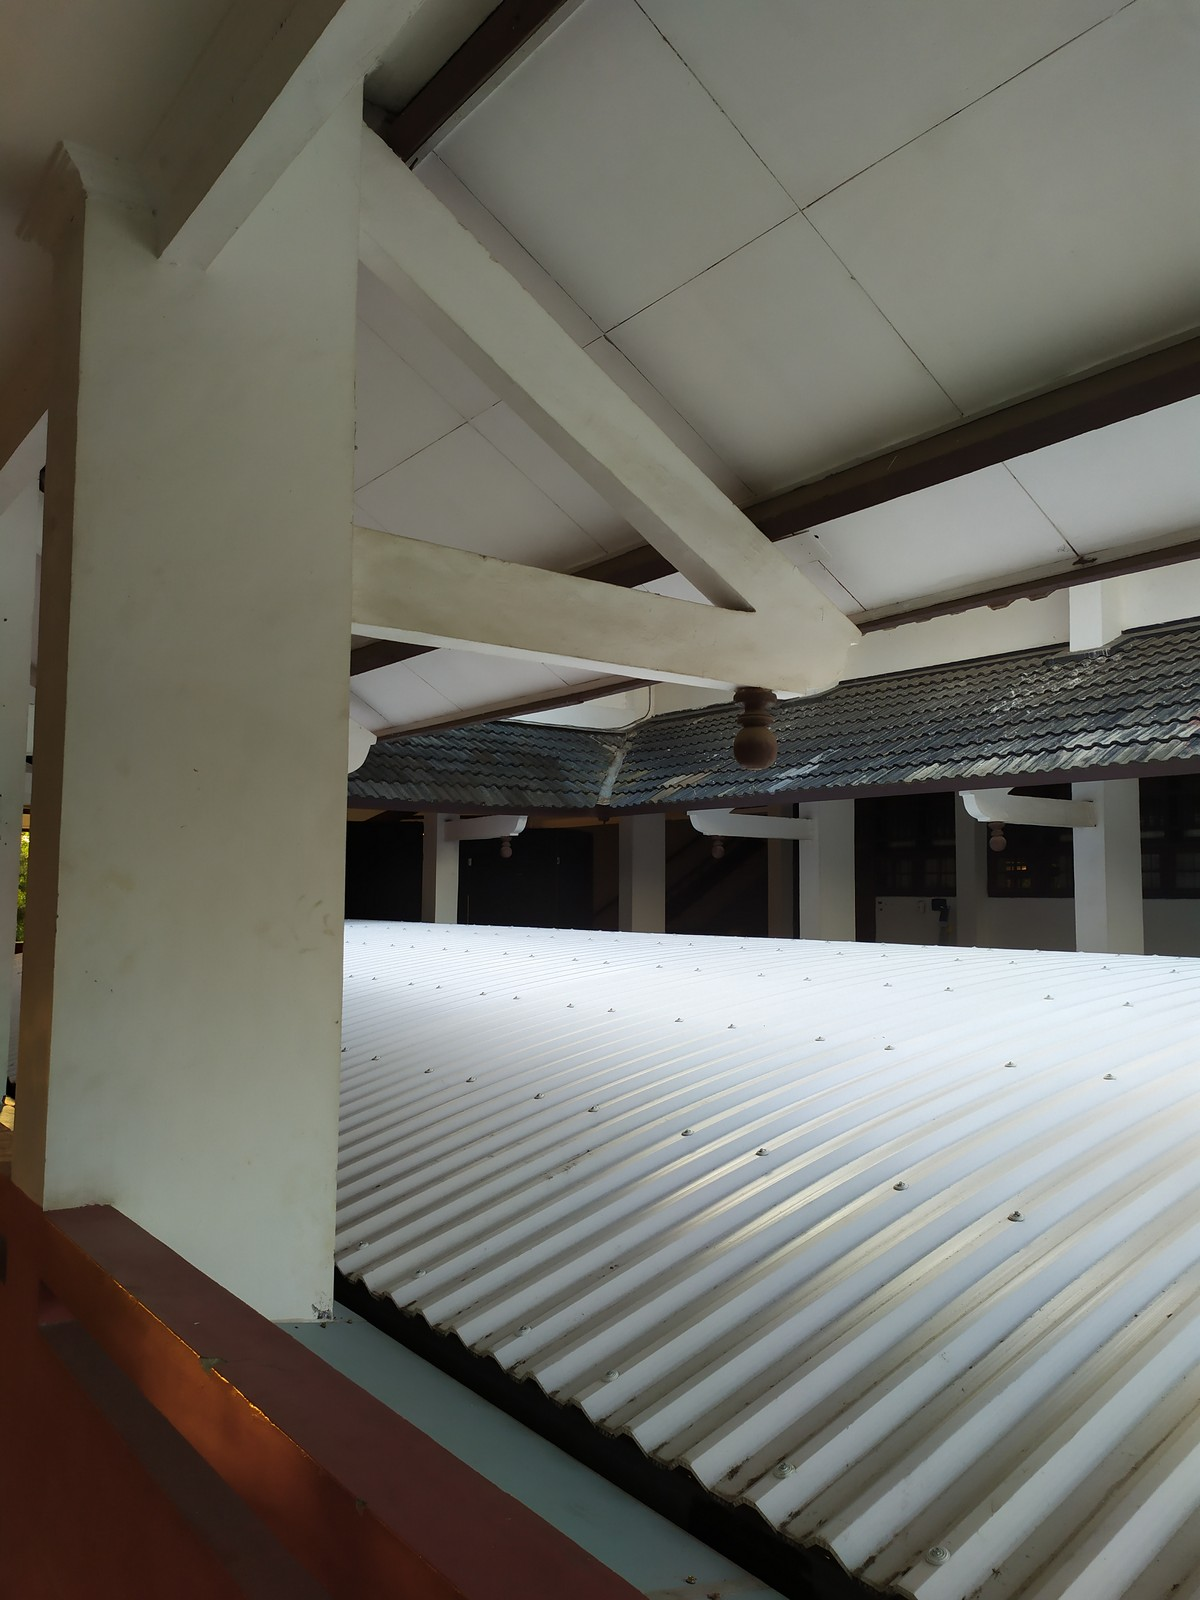concrete beam: (332, 524, 747, 695)
concrete column: (37, 127, 358, 1329), (1061, 782, 1160, 952), (789, 808, 867, 939), (608, 813, 676, 936), (411, 813, 466, 920)
